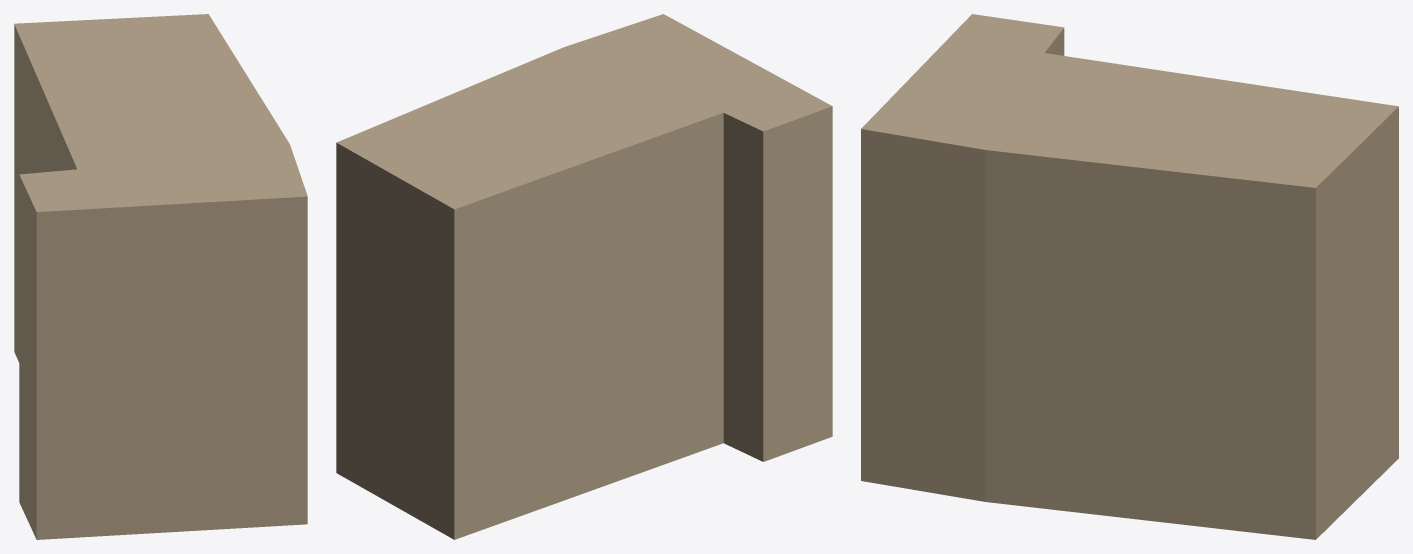
The model's file is bld_99020403.dae.
3 views of the same model, side by side, from view 1: azimuth 30°, elevation 25°; view 2: azimuth 150°, elevation 25°; view 3: azimuth 270°, elevation 25° (orthographic). The views are drawn at different scales.
Parts seen in each view (by area): view 1: bld_99020403; view 2: bld_99020403; view 3: bld_99020403.
Boxes of the visible parts, x1,y1,x2,y2 form: bld_99020403: (14,14,307,539); bld_99020403: (336,14,832,539); bld_99020403: (861,14,1398,539).
Size of the model in its own units: 8.48 by 11.08 by 8.
